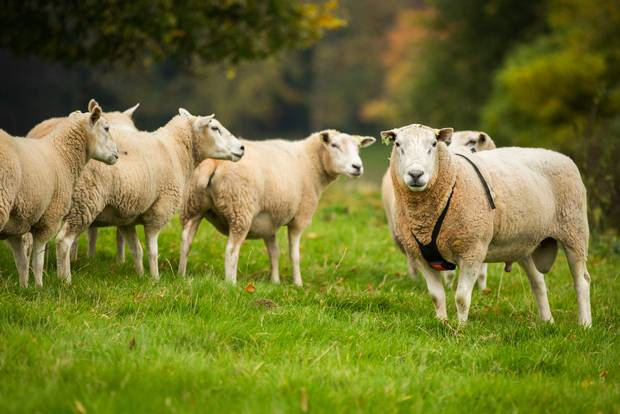sheep: (377, 121, 589, 324), (182, 116, 387, 294), (112, 85, 245, 285), (1, 84, 121, 262)
